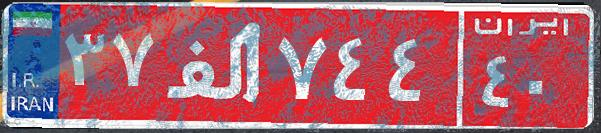0: (525, 38, 570, 115)
3: (57, 26, 110, 107)
4: (385, 28, 445, 110), (330, 28, 385, 110), (475, 38, 525, 113)
7: (273, 28, 330, 110), (110, 28, 158, 105)
الف: (158, 15, 273, 115)
